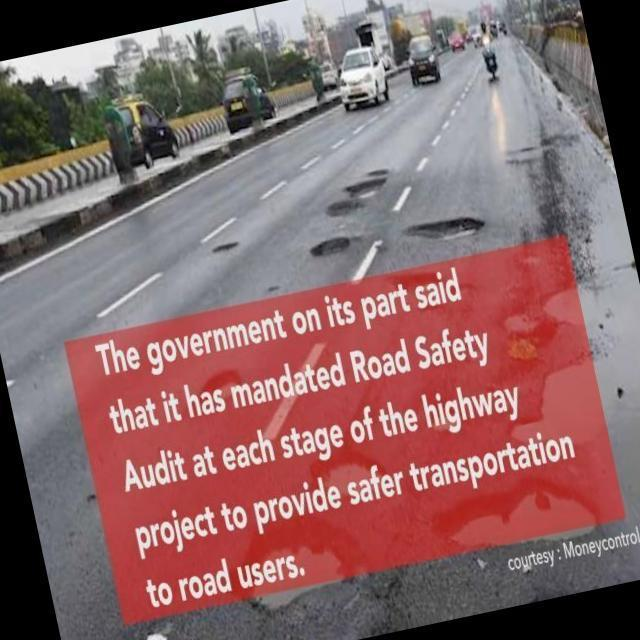-: (433, 475, 594, 550), (240, 533, 346, 616), (510, 410, 640, 459), (404, 207, 491, 252), (542, 284, 634, 326), (310, 451, 395, 492), (195, 369, 243, 406), (306, 226, 351, 257), (345, 176, 384, 202), (327, 199, 363, 219), (208, 238, 237, 257)
